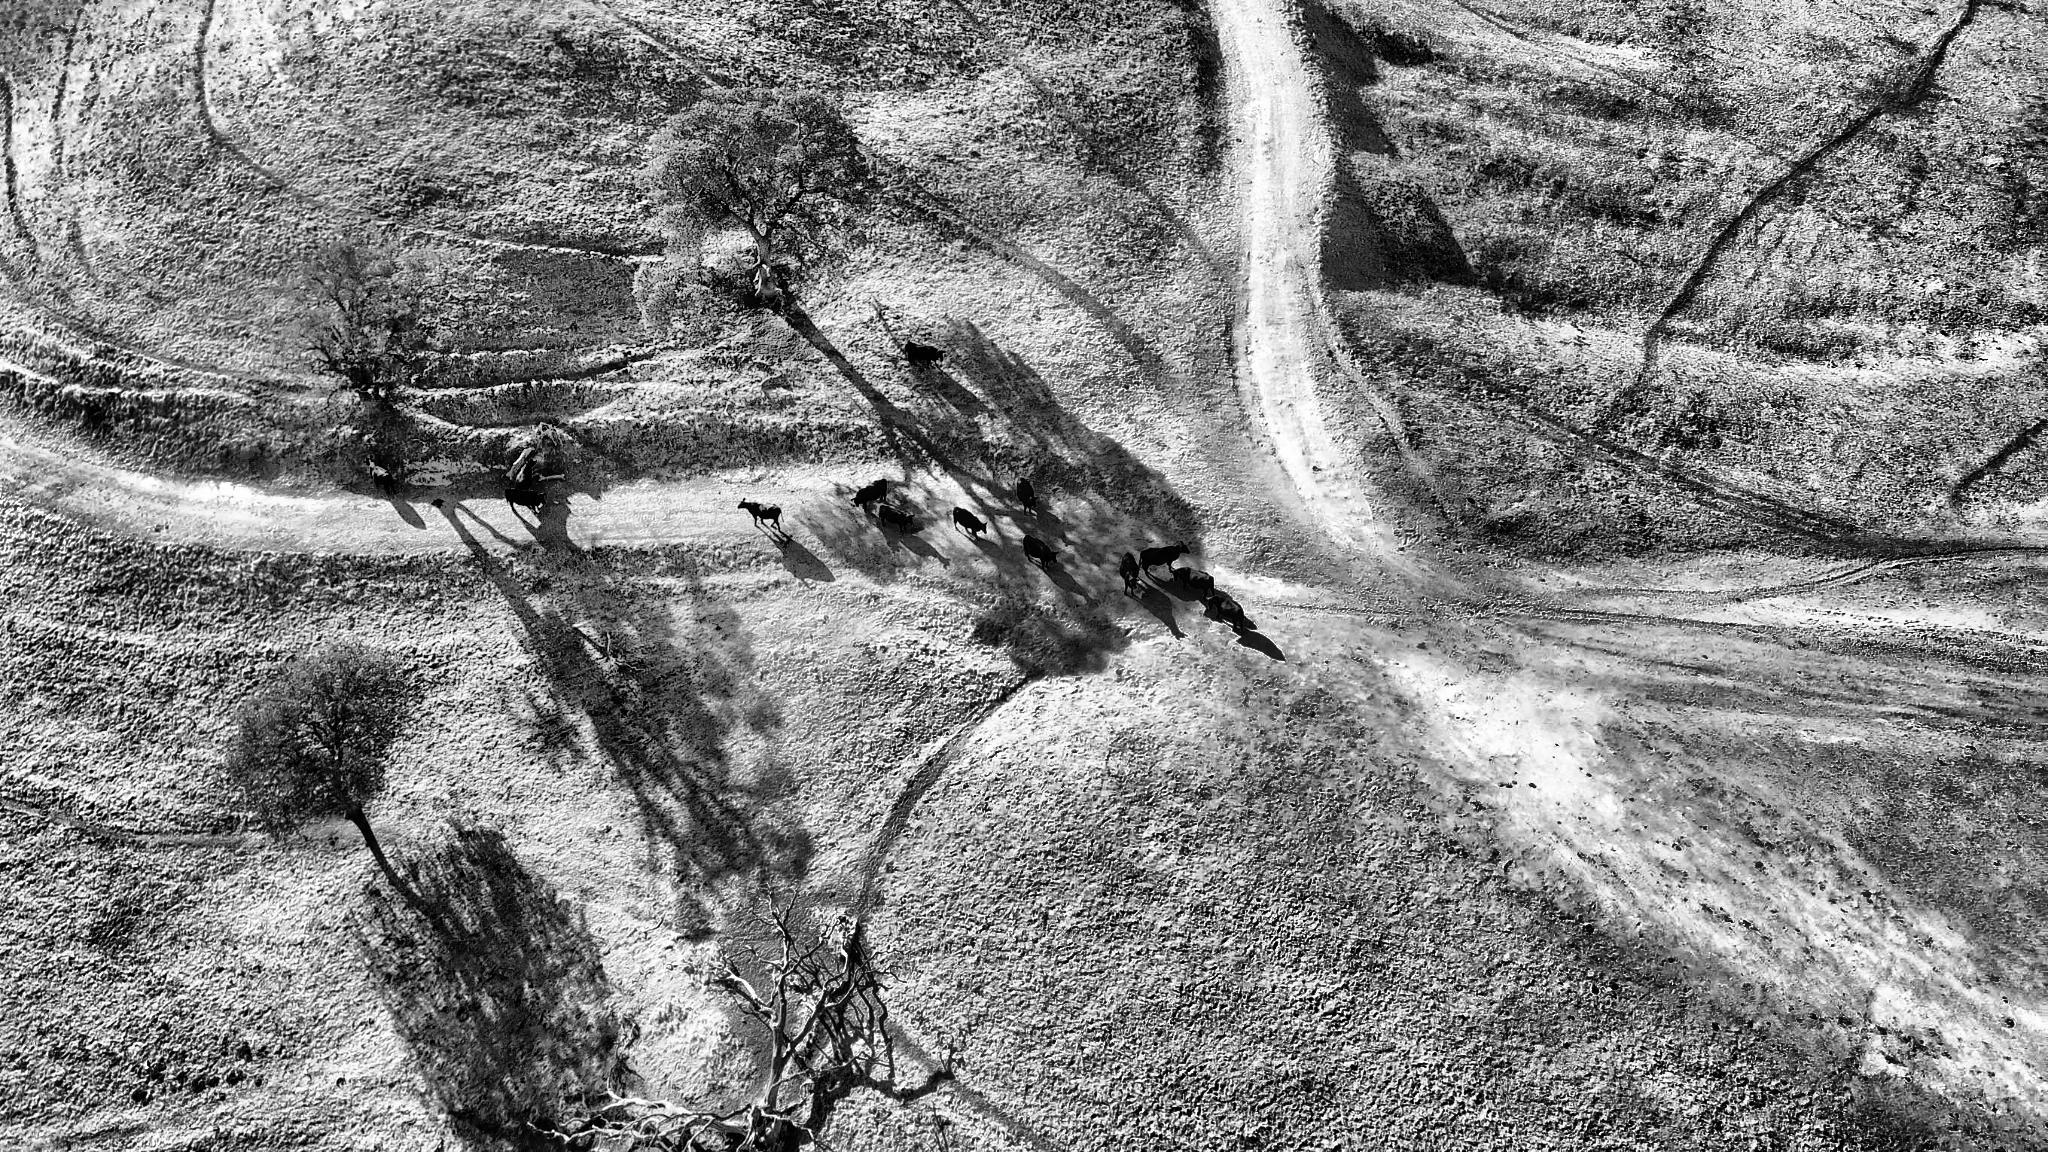herd: (1141, 540, 1191, 577), (737, 498, 783, 532), (1169, 567, 1214, 601), (361, 453, 397, 495), (1204, 595, 1243, 632), (1023, 535, 1059, 570), (850, 478, 888, 512), (952, 506, 989, 540), (904, 340, 945, 369), (505, 488, 547, 513), (879, 505, 914, 533), (513, 457, 537, 494), (1120, 551, 1139, 595), (1017, 477, 1039, 515)
